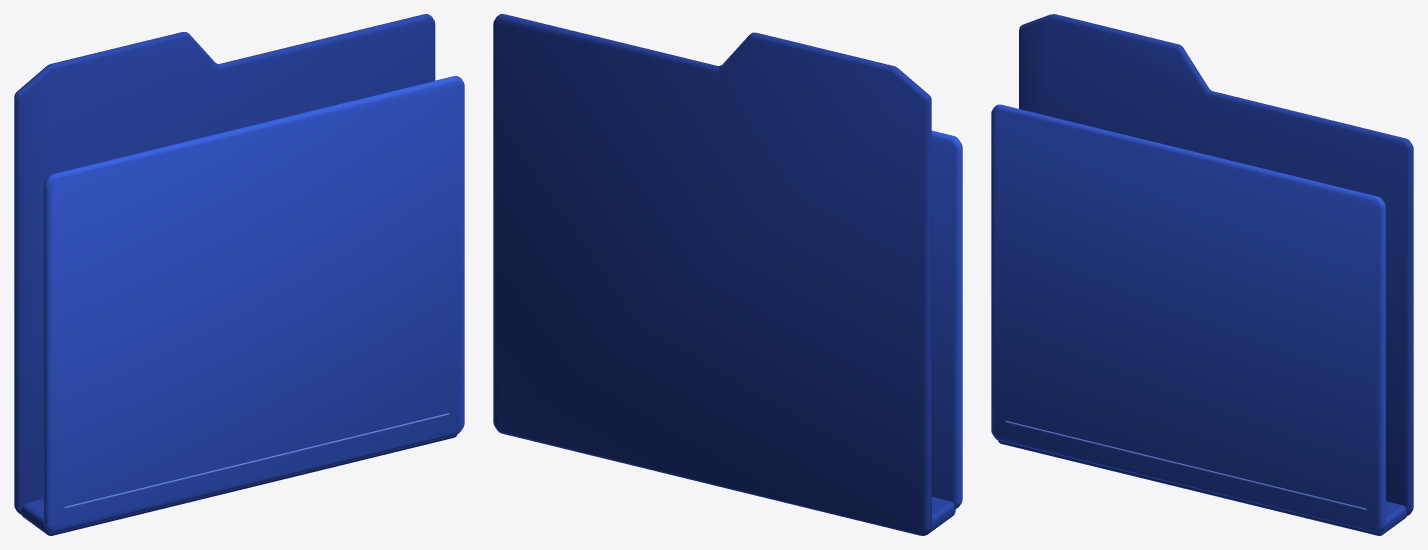
Rendered from portfolio-props-v3.glb.
3 views of the same model, side by side, from view 1: azimuth 30°, elevation 25°; view 2: azimuth 150°, elevation 25°; view 3: azimuth 330°, elevation 25° (orthographic). The views are drawn at different scales.
Visible parts, largest first — view 1: folder_front_surface, folder_back_surface, folder_spine, cover_crease; view 2: folder_back_surface, folder_front_surface, folder_spine; view 3: folder_front_surface, folder_back_surface, folder_spine, cover_crease.
Boxes of the visible parts, left/top/right/bottom form: folder_front_surface: left=43, top=76, right=464, bottom=532; folder_back_surface: left=14, top=14, right=435, bottom=514; folder_spine: left=21, top=434, right=457, bottom=535; cover_crease: left=64, top=413, right=449, bottom=508; folder_back_surface: left=493, top=14, right=931, bottom=535; folder_front_surface: left=931, top=130, right=962, bottom=508; folder_spine: left=926, top=497, right=955, bottom=535; folder_front_surface: left=991, top=104, right=1385, bottom=532; folder_back_surface: left=1019, top=14, right=1413, bottom=515; folder_spine: left=998, top=440, right=1406, bottom=535; cover_crease: left=1005, top=421, right=1366, bottom=510.
Size of the model in its own units: 1.5 by 1.52 by 0.2143.
